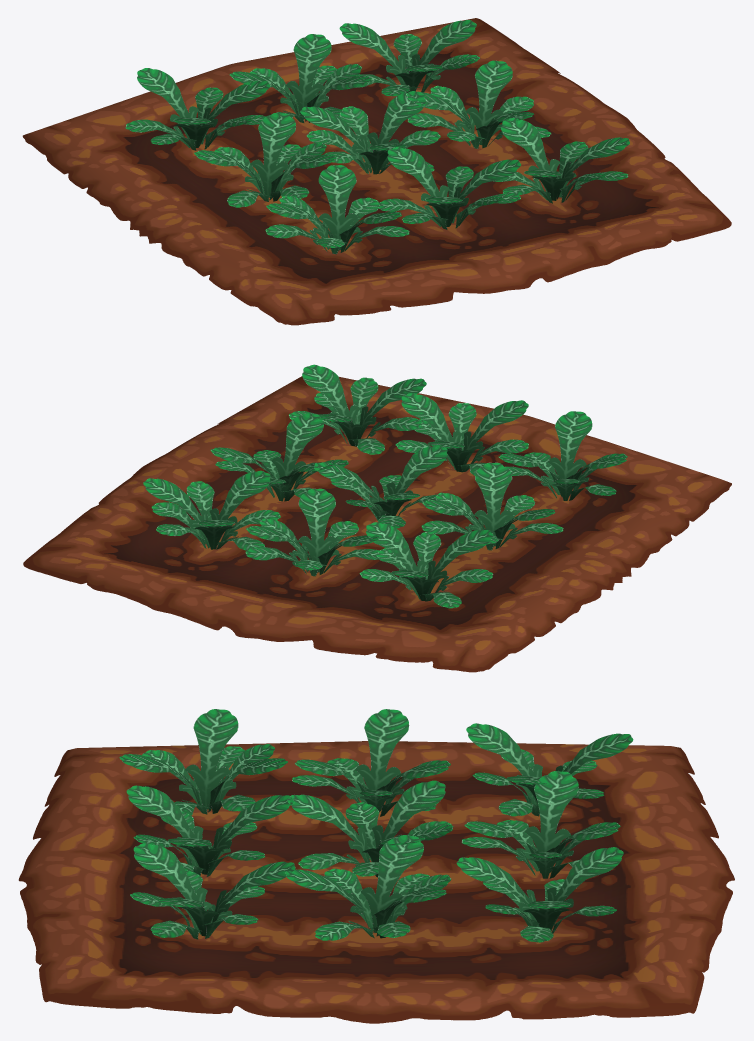
Rendered from Brocolli_Field_Lv2.FBX.
The picture shows the model from 3 angles, top to bottom: view 1: azimuth 30°, elevation 25°; view 2: azimuth 150°, elevation 25°; view 3: azimuth 270°, elevation 25°; orthographic projection. The views are drawn at different scales.
Visible parts, largest first — view 1: Brocolli_Field_Lv2; view 2: Brocolli_Field_Lv2; view 3: Brocolli_Field_Lv2.
Part boxes in pixels (x1,y1,x2,y2): Brocolli_Field_Lv2: [22, 18, 731, 325]; Brocolli_Field_Lv2: [23, 364, 731, 672]; Brocolli_Field_Lv2: [18, 709, 734, 1023].
Bounding box in the file's own units: 274 × 32.48 × 296.
